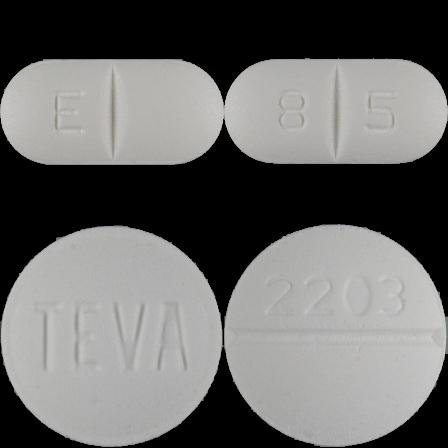49999-050: (0, 0, 224, 224)
